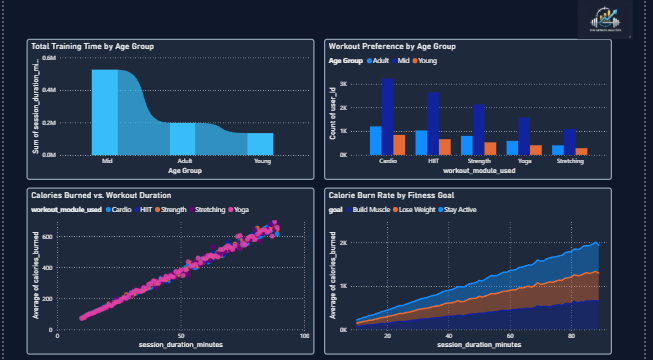

This screenshot's page, from the dashboard's own definition file:
{"tool":"powerbi","page":{"name":"Page 3","canvas":[1280,720],"ordinal":2},"visuals":[{"type":"scatterChart","title":"Calories Burned vs. Workout Duration","fields":{"X":["p-fitness.session_duration_minutes"],"Series":["p-fitness.workout_module_used"],"Y":["Avg(p-fitness.calories_burned)"]},"box":[46,376,576,334],"z":0},{"type":"ribbonChart","title":"Total Training Time by Age Group","fields":{"Category":["p-fitness.Age Group"],"Y":["Sum(p-fitness.session_duration_minutes)"]},"box":[46,78,576,282],"z":1000},{"type":"stackedAreaChart","title":"Calorie Burn Rate by Fitness Goal","fields":{"Y":["Avg(p-fitness.calories_burned)"],"Category":["p-fitness.session_duration_minutes"],"Series":["p-fitness.goal"]},"box":[640,376,576,334],"z":2000},{"type":"clusteredColumnChart","title":"Workout Preference by Age Group","fields":{"Category":["p-fitness.workout_module_used"],"Y":["CountNonNull(p-fitness.user_id)"],"Series":["p-fitness.Age Group"]},"box":[640,78,576,282],"z":3000},{"type":"image","box":[1126,0,154,78],"z":3001}]}

Visuals, with their boxes in screenshot pixels (x1, y1, x2, y2), scaled from the page's 1280x720 canvas onto the 653x360 screenshot:
"Calories Burned vs. Workout Duration" scatterChart: [23, 188, 317, 355]
"Total Training Time by Age Group" ribbonChart: [23, 39, 317, 180]
"Calorie Burn Rate by Fitness Goal" stackedAreaChart: [326, 188, 620, 355]
"Workout Preference by Age Group" clusteredColumnChart: [326, 39, 620, 180]
image: [574, 0, 652, 39]
